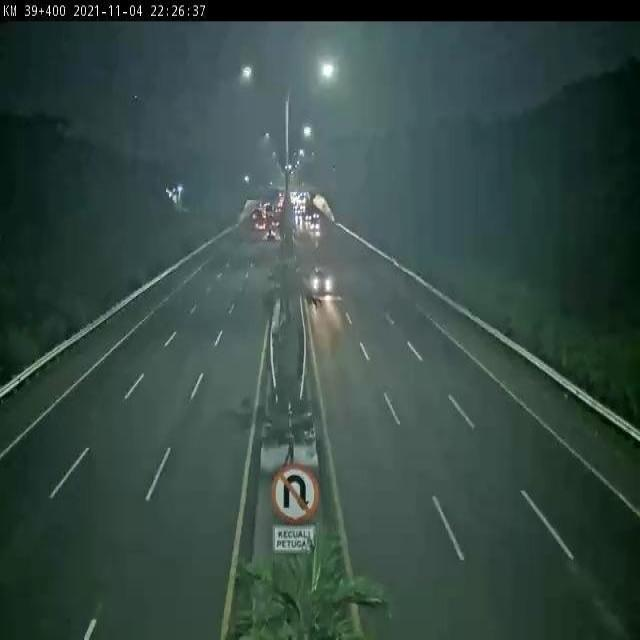Car: (309, 266, 335, 294), (309, 220, 320, 230)
